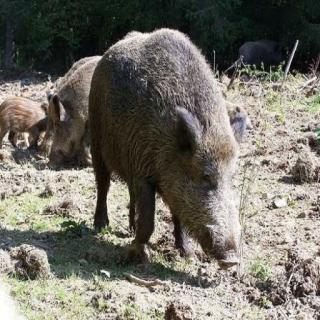Pig: (93, 3, 259, 290)
